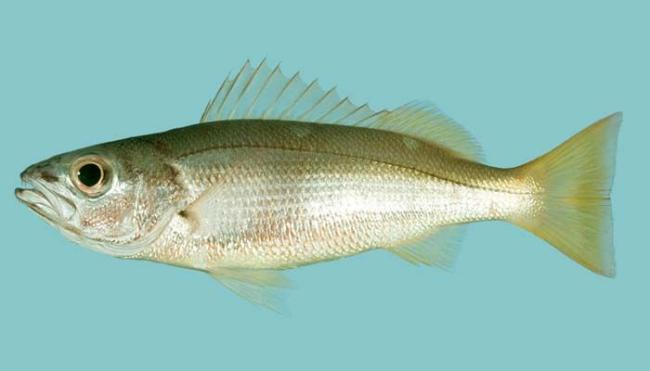fish: (13, 58, 624, 316)
